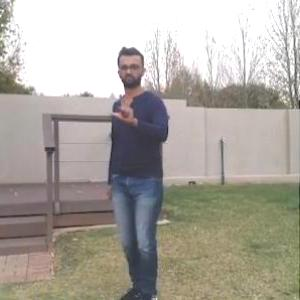land_hand: (110, 90, 138, 123)
